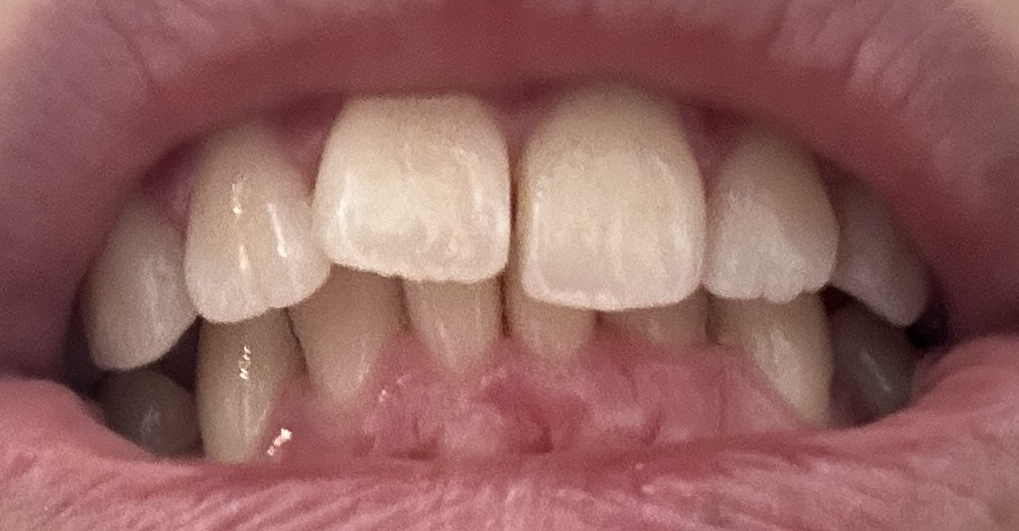teeth: (524, 91, 702, 303), (313, 96, 508, 276), (196, 124, 317, 322), (708, 133, 832, 291), (87, 202, 177, 366), (196, 316, 286, 467), (725, 299, 830, 424), (293, 278, 392, 397), (846, 190, 933, 320), (412, 281, 499, 372), (116, 374, 196, 451), (512, 297, 603, 360), (635, 296, 709, 338)
